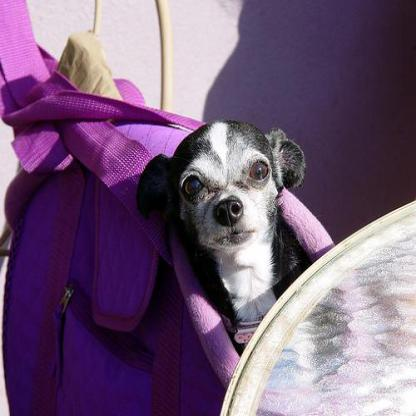dog: (153, 107, 291, 321)
